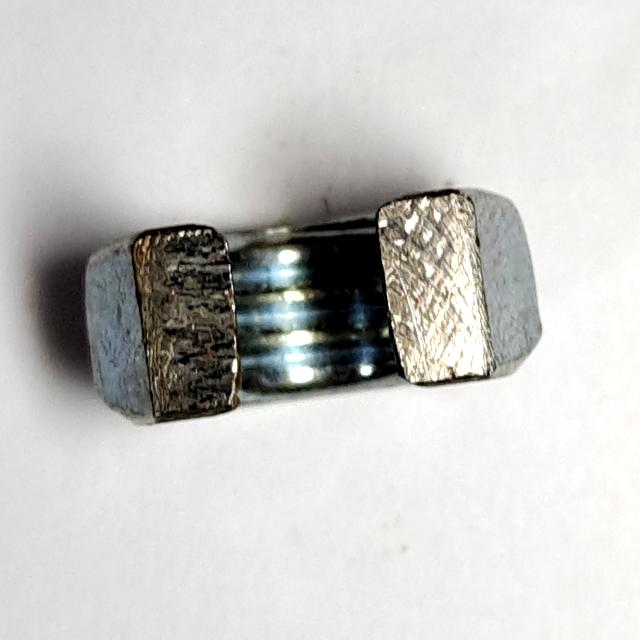Side-Fracture: (76, 171, 558, 443)
